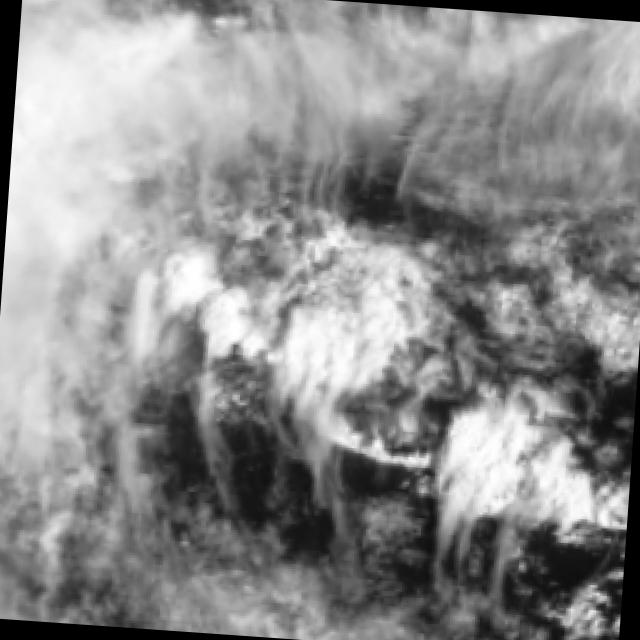CB: (12, 40, 170, 173)
